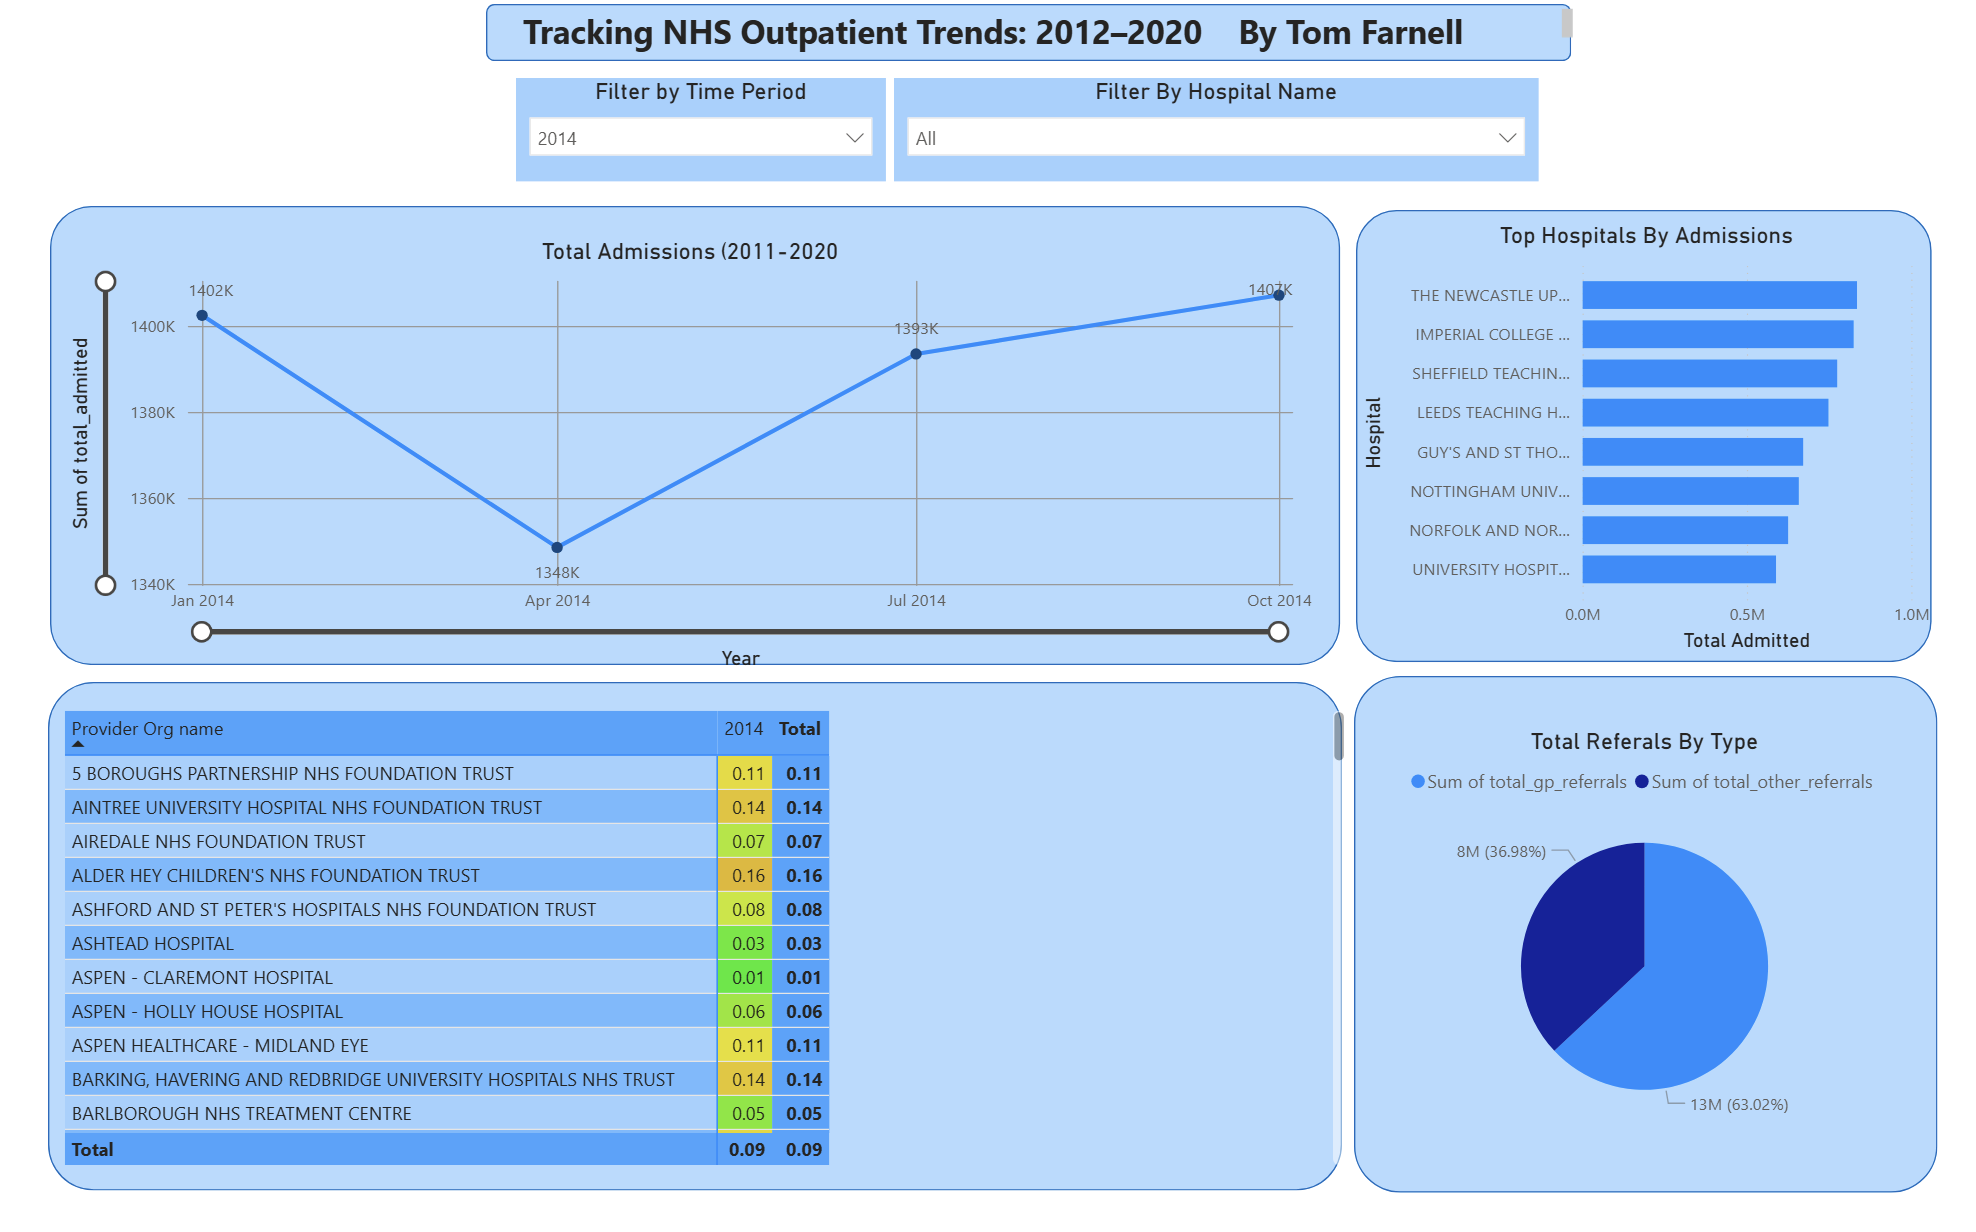

The dashboard page shown, as its layout file describes it:
{"tool":"powerbi","page":{"name":"Page 1","canvas":[1600,1200],"ordinal":0},"visuals":[{"type":"shape","box":[359.7,7.9,798,42],"z":0,"group":"g6"},{"type":"slicer","title":"Filter by Time Period","fields":{"Values":["nhs_dataset_with_quarters.Period.Variation.Date Hierarchy.Year","nhs_dataset_with_quarters.Period.Variation.Date Hierarchy.Quarter"]},"box":[381.5,61.7,272,76],"z":0,"group":"g2"},{"type":"group","id":"g1","title":"Group 2","box":[38.2,505.5,960,374.5],"z":0},{"type":"shape","box":[38.2,505.5,951.6,374],"z":0,"group":"g1"},{"type":"group","id":"g2","title":"Group 1","box":[381.5,5.7,782,132],"z":1000,"group":"g6"},{"type":"slicer","title":"Filter By Hospital Name","fields":{"Values":["nhs_dataset_with_quarters.Provider Org name"]},"box":[659.5,61.7,474,76],"z":1000,"group":"g2"},{"type":"shape","box":[999.5,159.5,423.5,332.7],"z":1000,"group":"g4"},{"type":"group","id":"g3","title":"Group 3","box":[998.2,501.8,429.1,380],"z":1000},{"type":"textbox","box":[381.5,5.7,782,48],"z":2000,"group":"g2"},{"type":"group","id":"g4","title":"Group 4","box":[999.5,159.5,427.3,332.7],"z":2000},{"type":"shape","box":[998.2,501.8,429.1,380],"z":2000,"group":"g3"},{"type":"group","id":"g5","title":"Group 5","box":[40,156.4,949.1,345.5],"z":3000},{"type":"shape","box":[40,156.4,949.1,337.7],"z":3000,"group":"g5"},{"type":"group","id":"g6","title":"Group 6","box":[359.7,5.7,803.8,132],"z":4000},{"type":"lineChart","title":"Total Admissions (2011-2020","fields":{"Y":["Sum(nhs_dataset_with_quarters.total_admitted)"],"Category":["nhs_dataset_with_quarters.Period.Variation.Date Hierarchy.Year","nhs_dataset_with_quarters.Period.Variation.Date Hierarchy.Quarter"]},"box":[49.3,180.5,923.8,321.3],"z":4000,"group":"g5"},{"type":"barChart","title":"Top Hospitals By Admissions","fields":{"Category":["nhs_dataset_with_quarters.Provider Org name"],"Y":["Sum(nhs_dataset_with_quarters.total_admitted)"]},"box":[999.5,168.6,427.3,320.3],"z":5000,"group":"g4"},{"type":"pivotTable","fields":{"Rows":["nhs_dataset_with_quarters.Provider Org name"],"Columns":["nhs_dataset_with_quarters.Period.Variation.Date Hierarchy.Year","nhs_dataset_with_quarters.Period.Variation.Date Hierarchy.Quarter"],"Values":["nhs_dataset_with_quarters.First DNA Rate"]},"box":[46.2,521.5,951.6,344],"z":6000,"group":"g1"},{"type":"pieChart","title":"Total Referals By Type","fields":{"Y":["Sum(nhs_dataset_with_quarters.total_gp_referrals)","Sum(nhs_dataset_with_quarters.total_other_referrals)"]},"box":[1017.9,540.3,389.1,301.8],"z":7000,"group":"g3"}]}

Visuals, with their boxes on the page's 1600x1200 design canvas (x1, y1, x2, y2). These are canvas units, not pixel positions in the 1976x1232 screenshot, which may show the page scaled, cropped or inside an application window:
shape: box(360, 8, 1158, 50)
"Filter by Time Period" slicer: box(382, 62, 654, 138)
"Group 2" group: box(38, 506, 998, 880)
shape: box(38, 506, 990, 880)
"Group 1" group: box(382, 6, 1164, 138)
"Filter By Hospital Name" slicer: box(660, 62, 1134, 138)
shape: box(1000, 160, 1423, 492)
"Group 3" group: box(998, 502, 1427, 882)
textbox: box(382, 6, 1164, 54)
"Group 4" group: box(1000, 160, 1427, 492)
shape: box(998, 502, 1427, 882)
"Group 5" group: box(40, 156, 989, 502)
shape: box(40, 156, 989, 494)
"Group 6" group: box(360, 6, 1164, 138)
"Total Admissions (2011-2020" lineChart: box(49, 180, 973, 502)
"Top Hospitals By Admissions" barChart: box(1000, 169, 1427, 489)
pivotTable - nhs_dataset_with_quarters.Provider Org name x nhs_dataset_with_quarters.Period.Variation.Date Hierarchy.Year: box(46, 522, 998, 866)
"Total Referals By Type" pieChart: box(1018, 540, 1407, 842)
